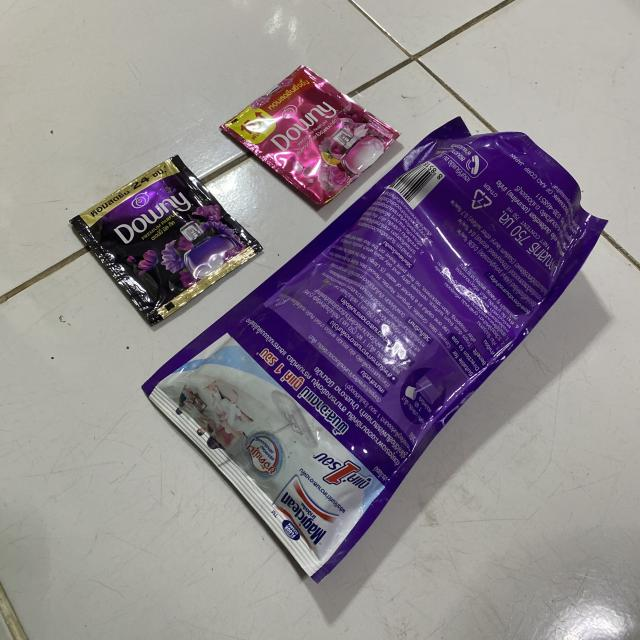plastik: (142, 118, 606, 581), (70, 156, 262, 325), (221, 66, 399, 205)
